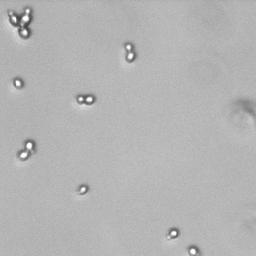budding: (118, 35, 139, 67), (14, 137, 37, 164), (72, 90, 99, 109), (161, 223, 185, 243), (184, 243, 202, 256)
cluster: (5, 4, 38, 41)
individual: (10, 72, 25, 91), (75, 181, 91, 198)
